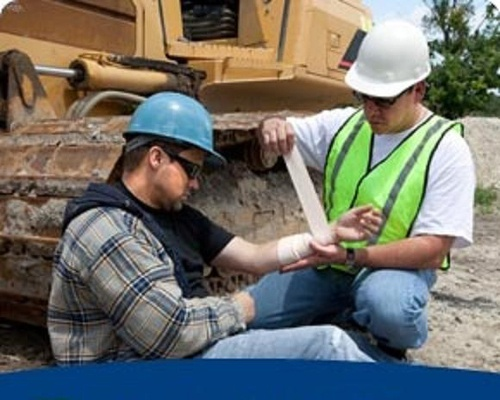blue: (114, 87, 223, 214)
white: (340, 18, 438, 134)
